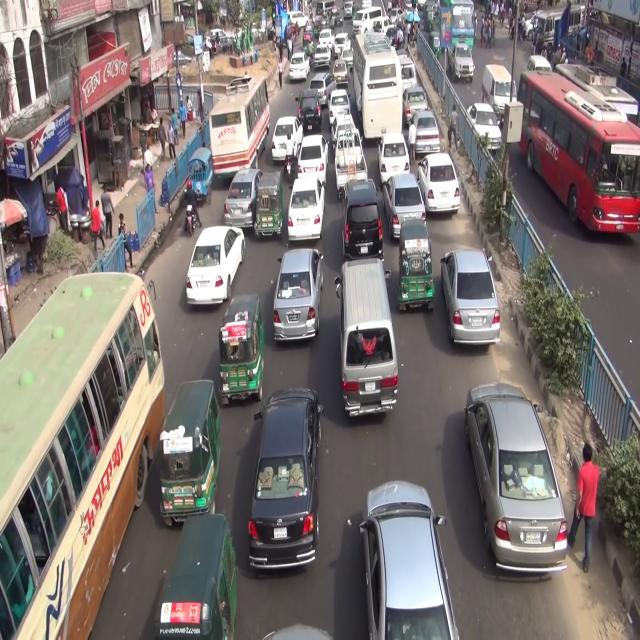black: (247, 386, 324, 574), (342, 178, 384, 272)
silver: (464, 381, 568, 579), (359, 479, 460, 639), (336, 264, 398, 428), (440, 246, 501, 347), (272, 246, 324, 342), (410, 112, 443, 154)
white: (186, 224, 246, 307), (416, 150, 467, 224), (286, 172, 328, 246), (464, 98, 503, 152), (378, 129, 410, 184), (302, 130, 328, 182), (274, 115, 298, 160), (327, 89, 353, 120), (289, 52, 308, 83)
